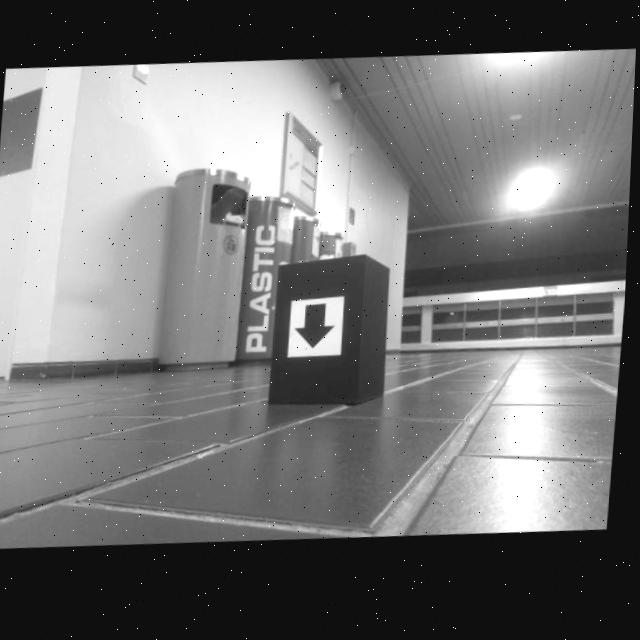DOWN: (297, 307, 340, 354)
